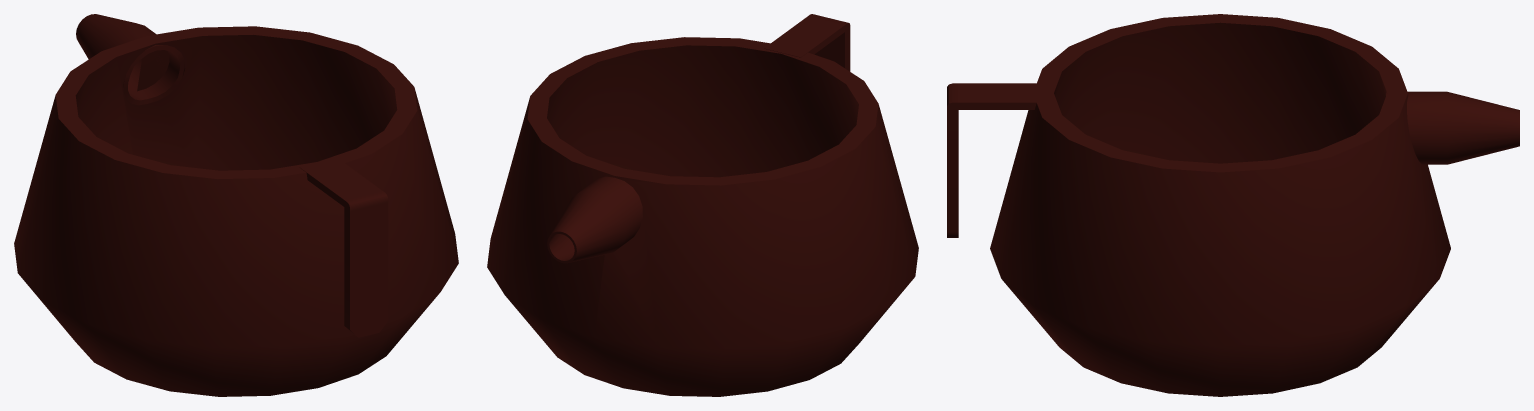
File: teapot.obj
3 renders of one model, left to right at view 1: azimuth 30°, elevation 25°; view 2: azimuth 150°, elevation 25°; view 3: azimuth 270°, elevation 25°, orthographic. The views are drawn at different scales.
Visible parts, largest first — view 1: pPipe11 teapot, teapot pCube3, teapot pPipe7; view 2: pPipe11 teapot, teapot pPipe7, teapot pCube3; view 3: pPipe11 teapot, teapot pPipe7, teapot pCube3.
Boxes of the visible parts, x1=… form: pPipe11 teapot: x1=14, y1=26, x2=458, y2=396; teapot pCube3: x1=299, y1=158, x2=388, y2=337; teapot pPipe7: x1=76, y1=14, x2=184, y2=105; pPipe11 teapot: x1=487, y1=37, x2=918, y2=396; teapot pPipe7: x1=547, y1=176, x2=642, y2=263; teapot pCube3: x1=764, y1=14, x2=850, y2=71; pPipe11 teapot: x1=990, y1=14, x2=1450, y2=396; teapot pPipe7: x1=1386, y1=91, x2=1519, y2=164; teapot pCube3: x1=947, y1=83, x2=1051, y2=237.
Size of the model in its own units: 1.8 by 1 by 2.24.
